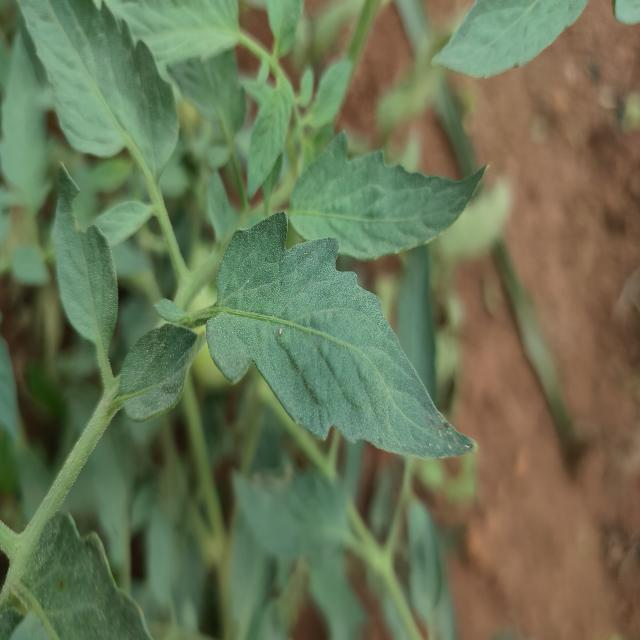tomato_healthy: (205, 212, 473, 458), (18, 0, 178, 186), (289, 130, 485, 259), (17, 511, 150, 640), (54, 164, 117, 388), (433, 0, 588, 76), (108, 0, 240, 67), (118, 323, 200, 421), (247, 78, 293, 196), (135, 72, 138, 76)
